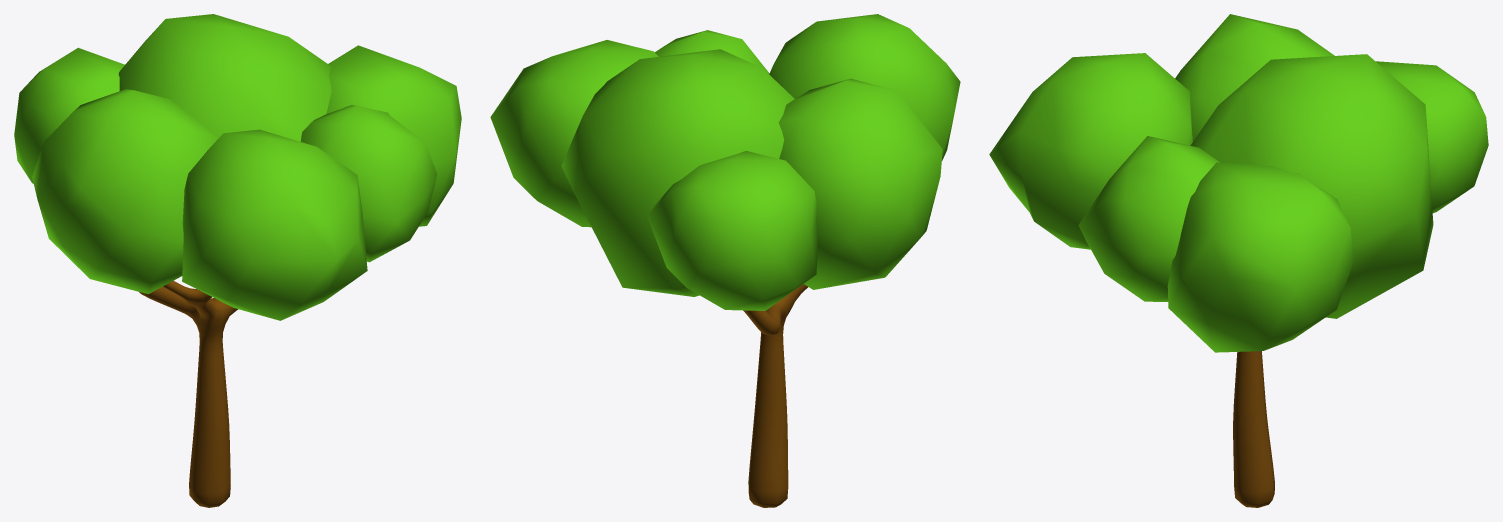
Rendered from RegularTree.glb.
3 renders of one model, left to right at view 1: azimuth 30°, elevation 25°; view 2: azimuth 150°, elevation 25°; view 3: azimuth 270°, elevation 25°, orthographic. The views are drawn at different scales.
Parts seen in each view (by area): view 1: Plane; view 2: Plane; view 3: Plane.
Part boxes in pixels (x1,y1,x2,y2): Plane: (14, 14, 461, 507); Plane: (490, 14, 960, 507); Plane: (989, 14, 1488, 507).
Bounding box in the file's own units: 7.77 × 8.16 × 8.05.
1 material, 1 textured.
